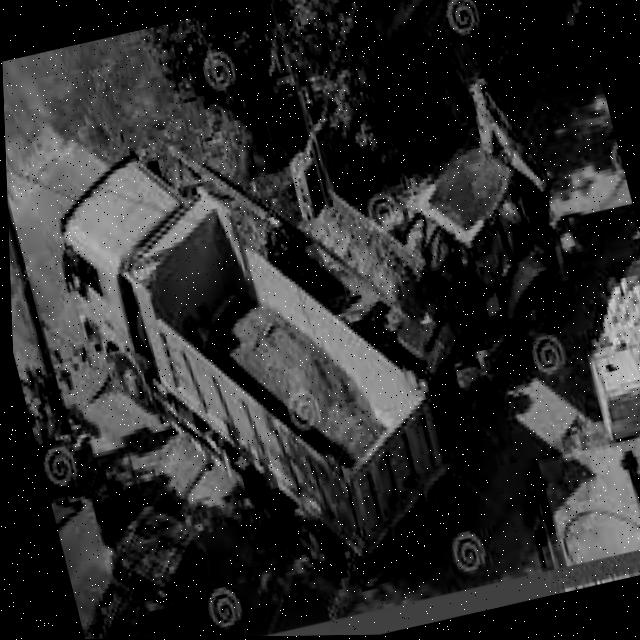truck: (34, 97, 462, 608)
